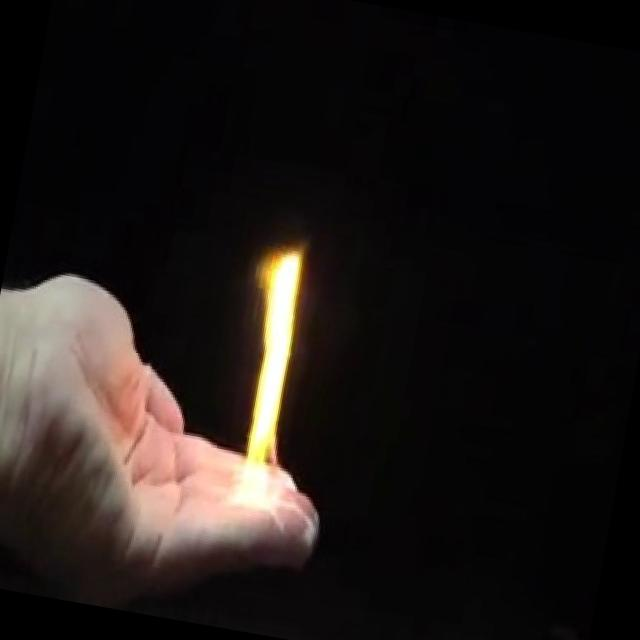Fire: (208, 232, 328, 518)
